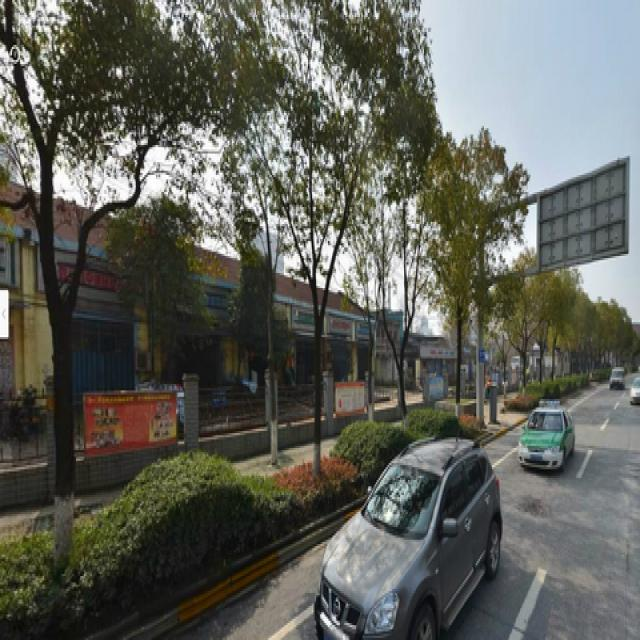cinn: (264, 8, 363, 470), (408, 126, 483, 418)
